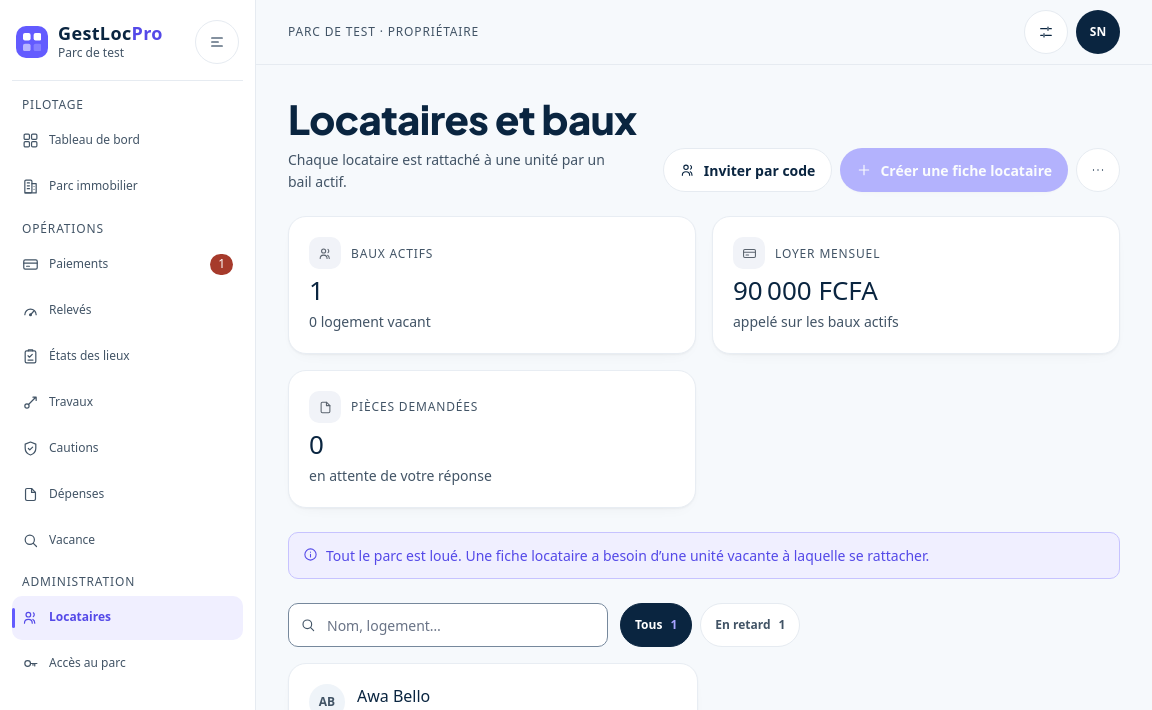
Test case: les actions d’en-tête › n’ouvre jamais un menu VIDE sur les locataires
Click the button named "Autres actions". click: (1098,170)
box: [1076,148,1120,192]
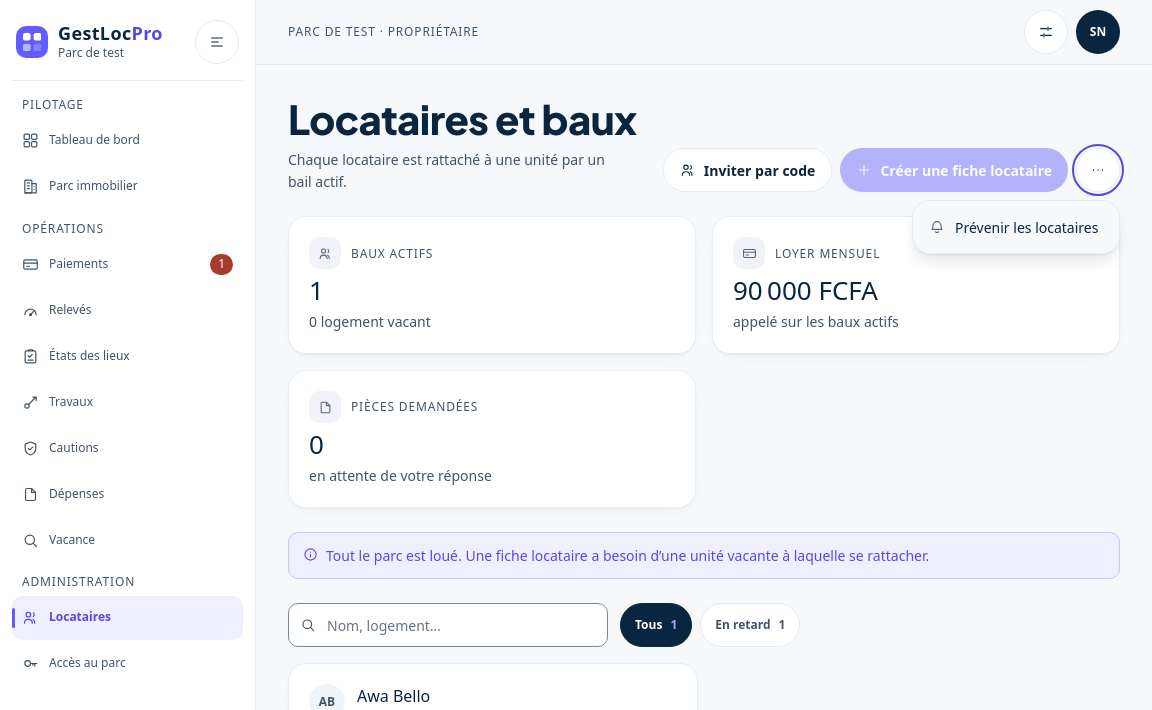
Expected: the menu item "Prévenir les locataires" is shown, [917,205,1115,249]
